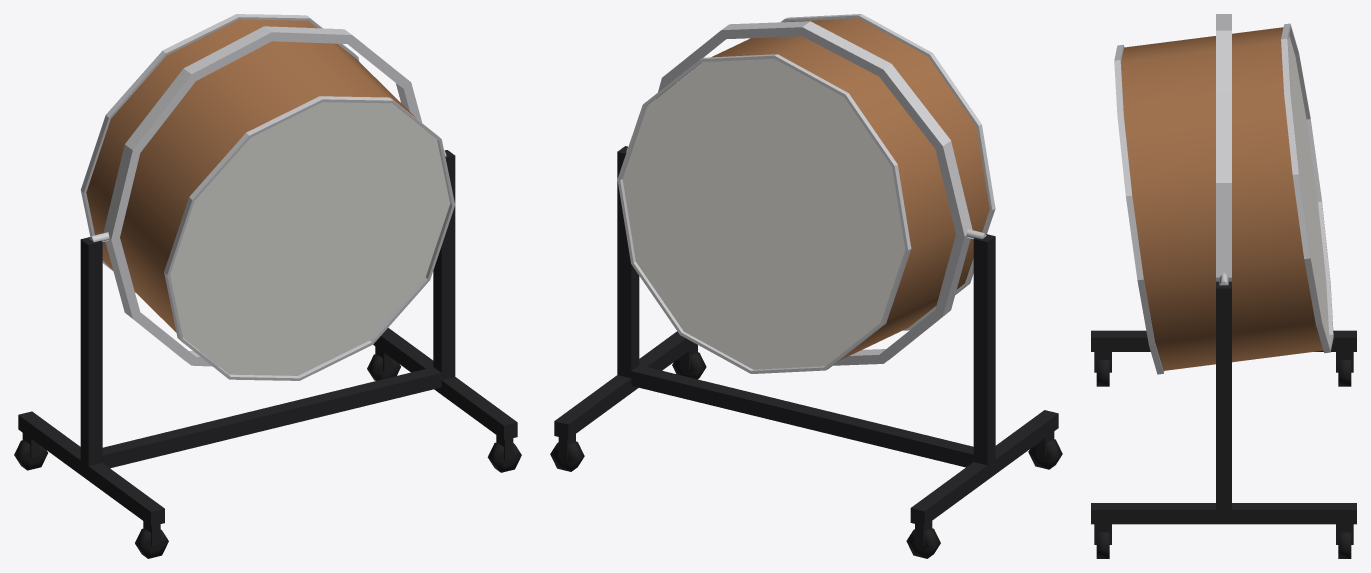
Rendered from concert-bass-32-low.glb.
The picture shows the model from 3 angles, left to right: view 1: azimuth 30°, elevation 25°; view 2: azimuth 150°, elevation 25°; view 3: azimuth 270°, elevation 25°; orthographic projection.
Parts seen in each view (by area): view 1: head, shell-wood, frame, metal, rubber; view 2: head, frame, shell-wood, metal, rubber; view 3: shell-wood, frame, metal, head, rubber.
Part boxes in pixels (box(x1,y1,x2,y2)): head: box(170, 102, 449, 375); shell-wood: box(86, 19, 416, 332); frame: box(18, 150, 517, 546); metal: box(80, 14, 455, 380); rubber: box(14, 354, 521, 558); head: box(622, 58, 905, 369); frame: box(554, 146, 1058, 546); shell-wood: box(711, 18, 989, 360); metal: box(617, 14, 995, 373); rubber: box(550, 352, 1062, 558); shell-wood: box(1121, 27, 1323, 370); frame: box(1091, 281, 1356, 544); metal: box(1114, 14, 1333, 374); head: box(1288, 35, 1329, 340); rubber: box(1096, 360, 1351, 558).
Size of the model in its own units: 1.09 by 1.2 by 0.66.
